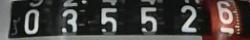digits: (101, 3, 122, 39), (58, 6, 81, 36), (22, 7, 42, 39), (214, 0, 234, 26), (139, 6, 158, 31), (180, 4, 196, 32)
